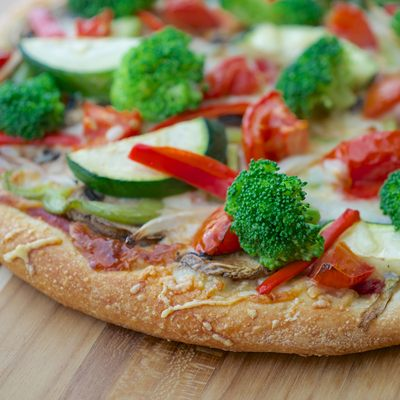curry: (224, 159, 324, 272), (108, 26, 207, 124), (273, 35, 379, 120), (0, 71, 67, 140), (379, 167, 400, 233)
